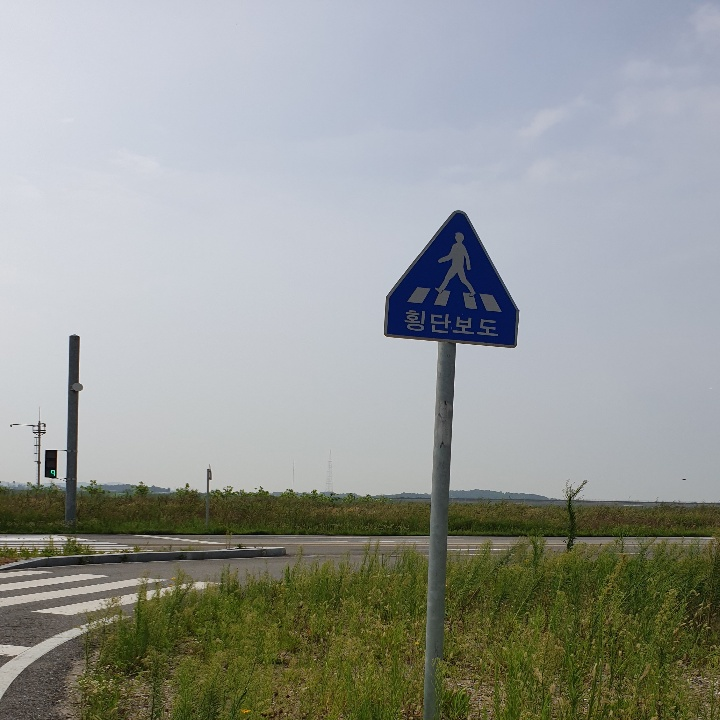cross: (430, 219, 484, 306)
